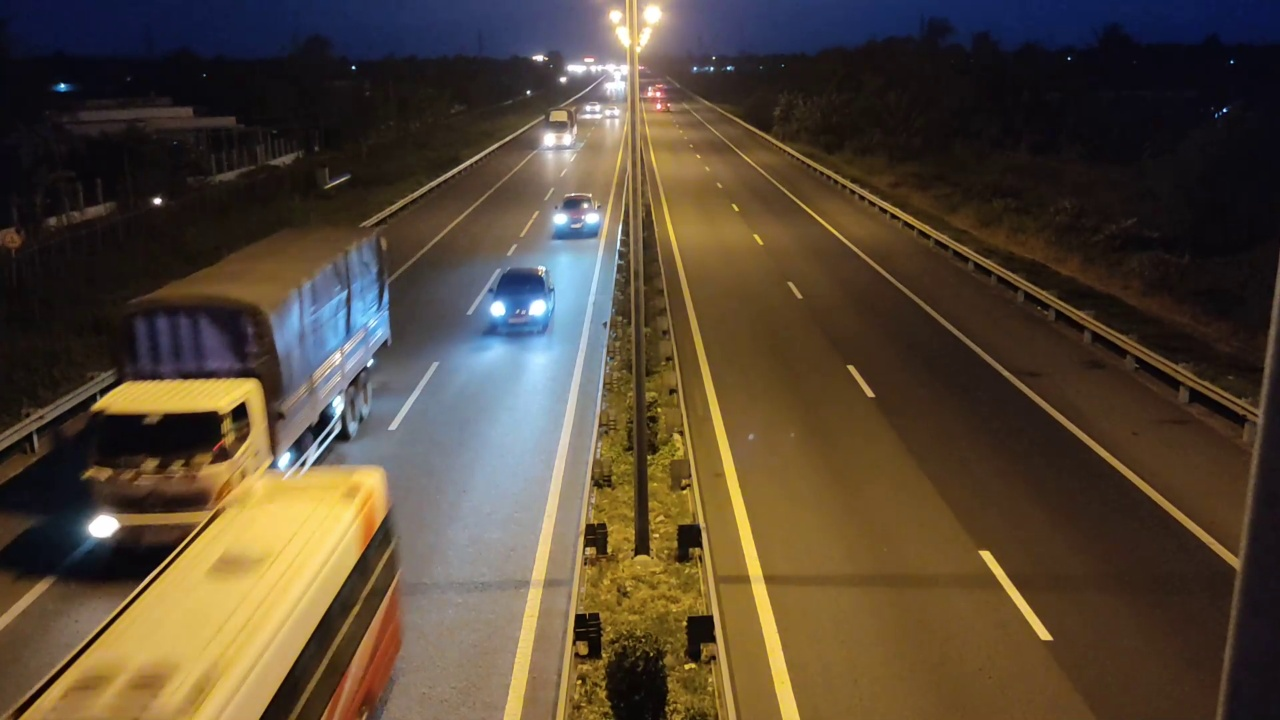bus: (7, 463, 405, 715)
car: (485, 265, 557, 337), (551, 193, 604, 239)
truck: (77, 223, 393, 548)
